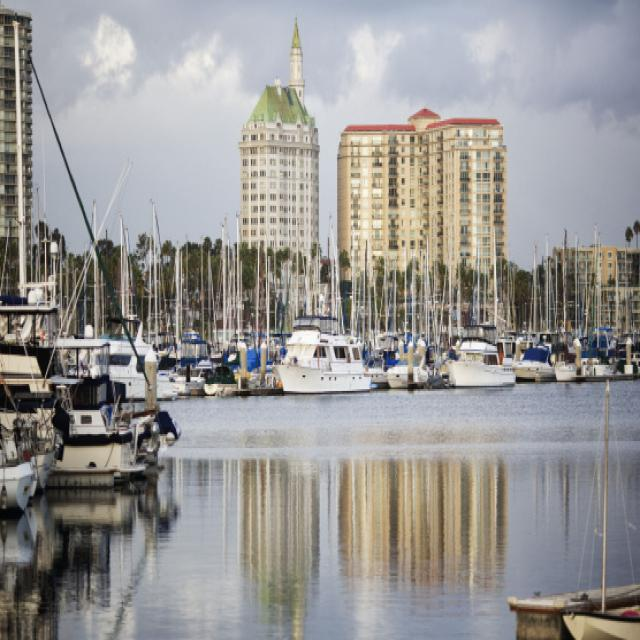houseboat: (261, 322, 380, 386), (0, 354, 41, 513), (459, 324, 516, 394)
